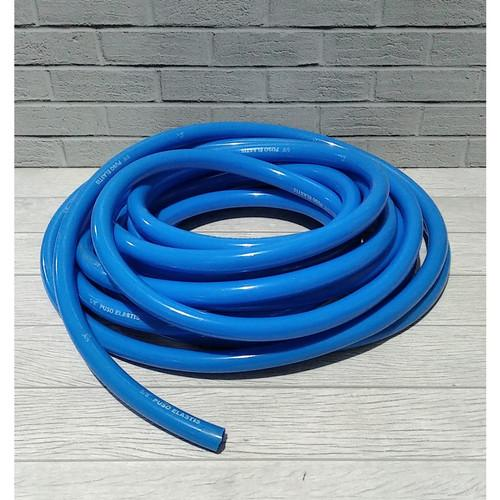PVC: (39, 119, 451, 456)
